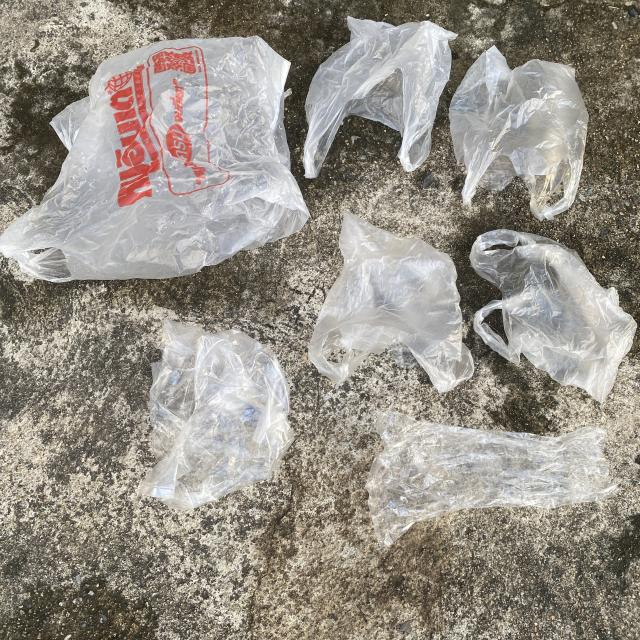Single-layer Plastic: (0, 36, 309, 282), (366, 412, 616, 546), (309, 211, 474, 392), (139, 319, 294, 510), (470, 230, 636, 401), (302, 16, 456, 179), (449, 46, 589, 220)
